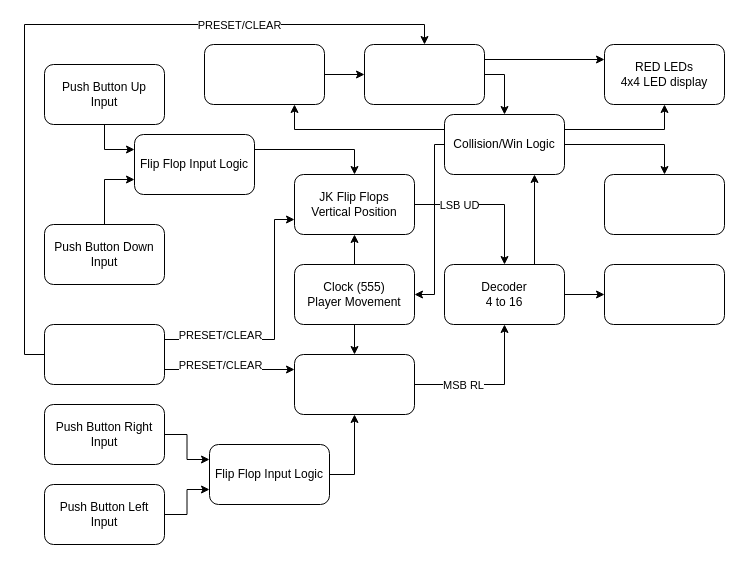
The diagram is 742 pixels wide and 562 high, and some of its shapes have lost their labels. The shapes that lost their labels are listed below. From the top down, each one's box as (x1, y1, x2, y2) in pixels, then its label:
(204, 44, 324, 104): Clock (555) Obstacle Movement
(364, 44, 484, 104): Ring Counter Obstacle Position
(604, 174, 724, 234): GREEN LEDs 4x4 LED display
(604, 264, 724, 324): BLUE LEDs 4x4 LED display
(44, 324, 164, 384): Push Button Reset
(294, 354, 414, 414): JK Flip Flops Horizontal Position
